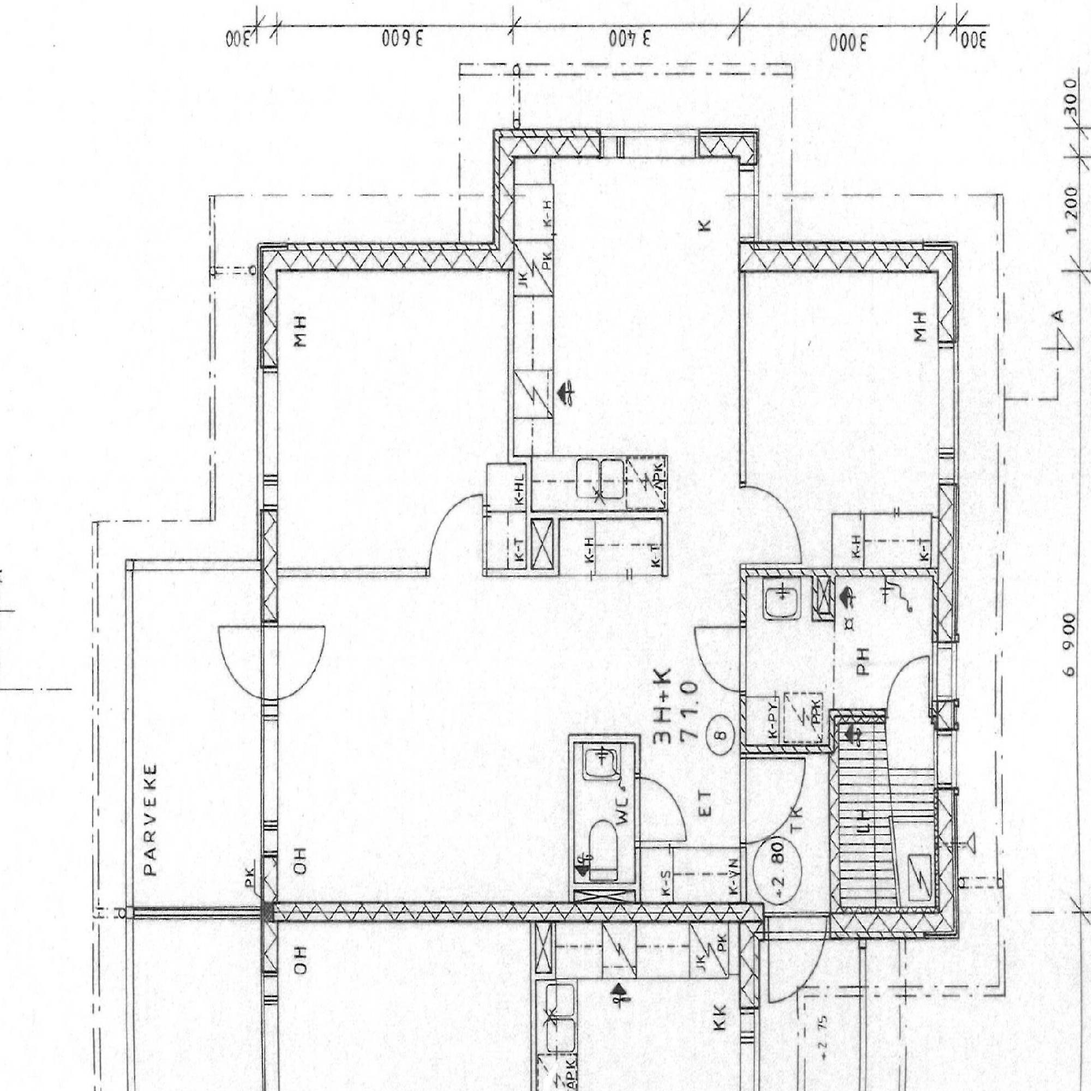wall: (259, 243, 278, 923), (258, 903, 763, 923), (259, 243, 514, 272), (493, 130, 759, 157), (937, 243, 958, 577), (738, 243, 748, 903), (738, 243, 958, 272), (933, 709, 958, 940), (839, 908, 958, 940), (933, 577, 958, 709), (740, 908, 839, 940), (493, 130, 514, 272), (738, 130, 759, 272), (829, 709, 839, 940), (259, 569, 532, 577), (739, 567, 958, 576), (829, 709, 958, 723), (125, 908, 259, 919), (508, 243, 514, 464), (569, 735, 575, 923), (526, 511, 667, 519), (635, 735, 640, 923), (748, 745, 839, 755), (741, 903, 763, 939), (569, 735, 640, 743), (526, 511, 532, 577), (662, 511, 667, 577), (526, 456, 532, 511), (508, 456, 532, 464)
